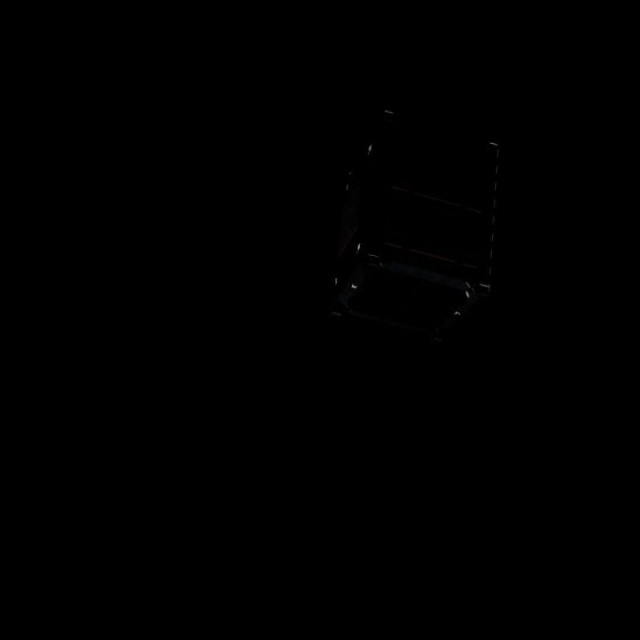satellite: (316, 85, 512, 348)
